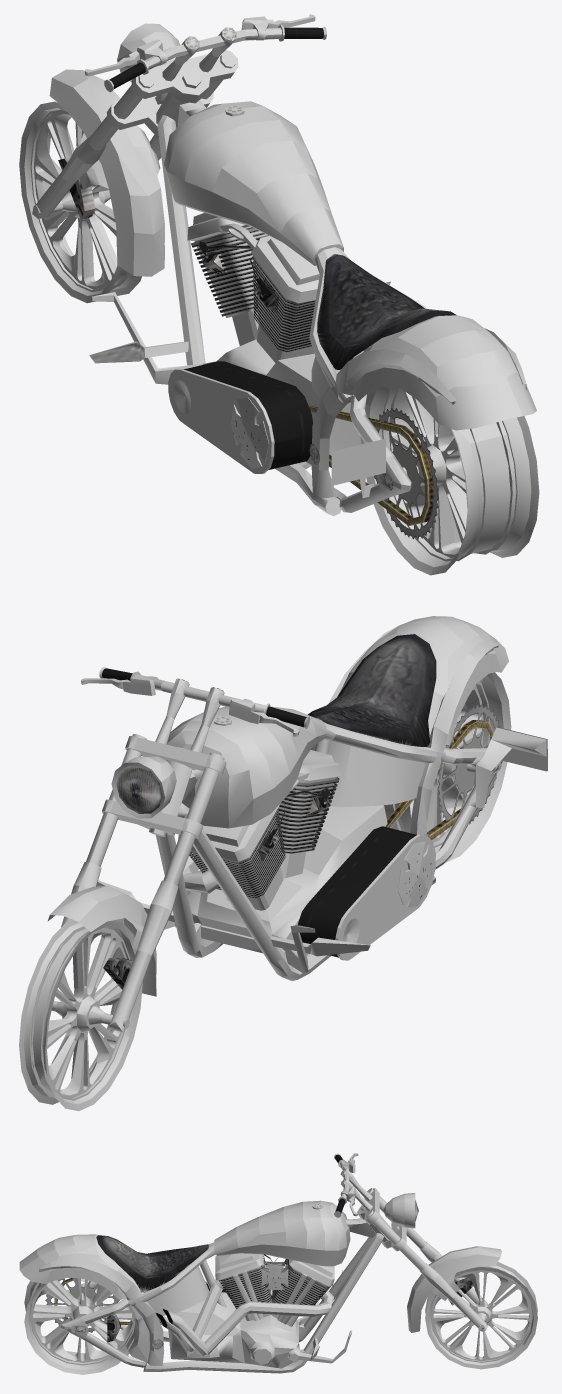
The model's file is MC3_VP_WCC_ELDIABLO_ST_00.glb.
3 renders of one model, top to bottom at view 1: azimuth 30°, elevation 25°; view 2: azimuth 150°, elevation 25°; view 3: azimuth 270°, elevation 25°, orthographic. The views are drawn at different scales.
Parts seen in each view (by area): view 1: frame_hlod.mesh, engine_hlod.mesh, whl_4_rim_0, fender_hlod.mesh, whl_2_rim_0, fork_hlod.mesh, bars_hlod.mesh, SprocketR.mesh, pPlane3.mesh, light_hlod.mesh, caliper_front.mesh; view 2: frame_hlod.mesh, engine_hlod.mesh, whl_2_rim_0, fork_hlod.mesh, whl_4_rim_0, bars_hlod.mesh, fender_hlod.mesh, light_hlod.mesh, SprocketR.mesh, Exh_H.mesh; view 3: frame_hlod.mesh, engine_hlod.mesh, whl_2_rim_0, whl_4_rim_0, Exh_H.mesh, fork_hlod.mesh, fender_hlod.mesh, bars_hlod.mesh, light_hlod.mesh, SprocketR.mesh, caliper_rear.mesh.
Part boxes in pixels (bbox=[...]): frame_hlod.mesh: bbox=[89, 92, 536, 515]; engine_hlod.mesh: bbox=[92, 212, 433, 525]; whl_4_rim_0: bbox=[360, 386, 539, 575]; fender_hlod.mesh: bbox=[49, 69, 164, 276]; whl_2_rim_0: bbox=[19, 101, 141, 303]; fork_hlod.mesh: bbox=[32, 50, 238, 218]; bars_hlod.mesh: bbox=[84, 14, 326, 92]; SprocketR.mesh: bbox=[374, 407, 438, 539]; pPlane3.mesh: bbox=[331, 438, 385, 485]; light_hlod.mesh: bbox=[117, 23, 179, 104]; caliper_front.mesh: bbox=[58, 157, 95, 219]; frame_hlod.mesh: bbox=[96, 616, 546, 981]; engine_hlod.mesh: bbox=[164, 720, 493, 972]; whl_2_rim_0: bbox=[19, 919, 142, 1111]; fork_hlod.mesh: bbox=[61, 734, 226, 1032]; whl_4_rim_0: bbox=[383, 672, 511, 862]; bars_hlod.mesh: bbox=[81, 667, 310, 752]; fender_hlod.mesh: bbox=[47, 885, 156, 996]; light_hlod.mesh: bbox=[111, 756, 176, 818]; SprocketR.mesh: bbox=[437, 704, 500, 824]; Exh_H.mesh: bbox=[182, 852, 219, 893]; frame_hlod.mesh: bbox=[19, 1200, 394, 1373]; engine_hlod.mesh: bbox=[54, 1253, 352, 1368]; whl_2_rim_0: bbox=[425, 1262, 537, 1369]; whl_4_rim_0: bbox=[24, 1278, 135, 1374]; Exh_H.mesh: bbox=[155, 1280, 333, 1355]; fork_hlod.mesh: bbox=[357, 1188, 487, 1331]; fender_hlod.mesh: bbox=[407, 1246, 501, 1332]; bars_hlod.mesh: bbox=[334, 1153, 372, 1217]; light_hlod.mesh: bbox=[383, 1193, 418, 1232]; SprocketR.mesh: bbox=[45, 1278, 119, 1332]; caliper_rear.mesh: bbox=[107, 1313, 120, 1342].
Size of the model in its own units: 0.973 by 1.13 by 2.73.
Materials: 17 (8 with a texture image).
